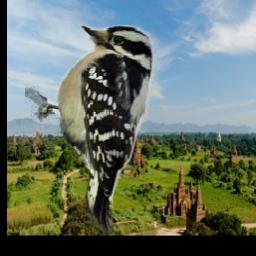Woodpecker: (24, 19, 156, 234)
